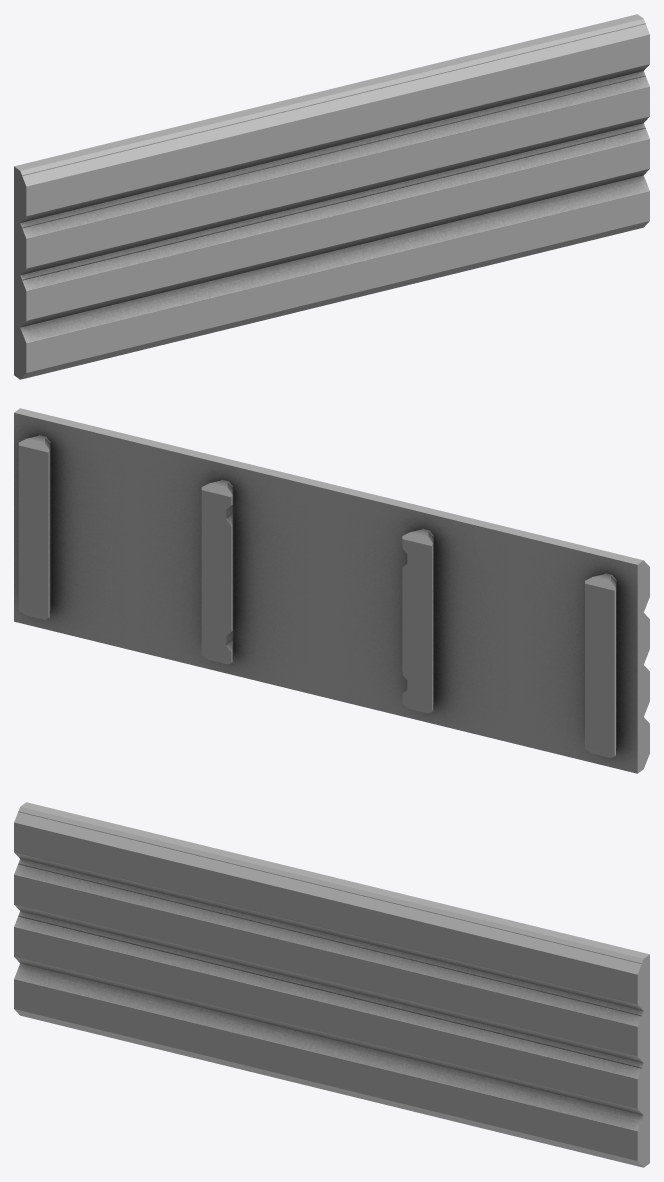
File: accent_slat.glb
3 views of the same model, one above another, from view 1: azimuth 30°, elevation 25°; view 2: azimuth 150°, elevation 25°; view 3: azimuth 330°, elevation 25° (orthographic).
Visible parts, largest first — view 1: accent-slat; view 2: accent-slat; view 3: accent-slat.
Part boxes in pixels (left/top/right/bottom): accent-slat: left=14, top=14, right=649, bottom=379; accent-slat: left=14, top=408, right=649, bottom=773; accent-slat: left=14, top=802, right=649, bottom=1167.
Size of the model in its own units: 87 by 27.85 by 5.2.
2 materials, 2 textured.
